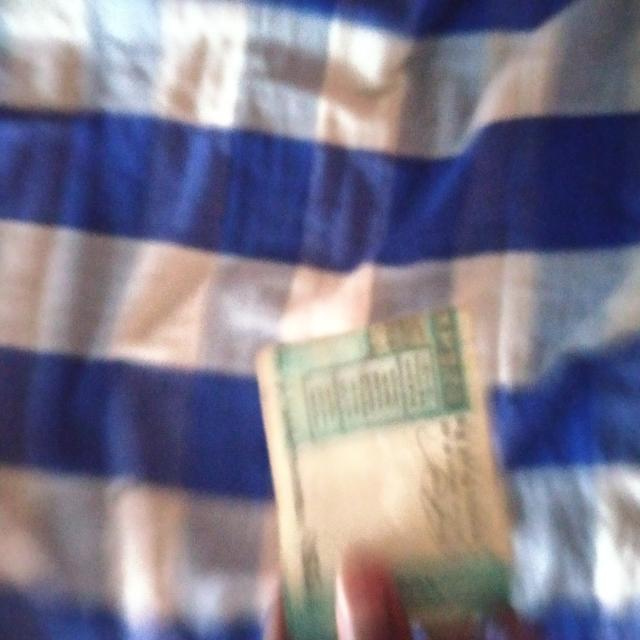50rs: (255, 346, 512, 612)
